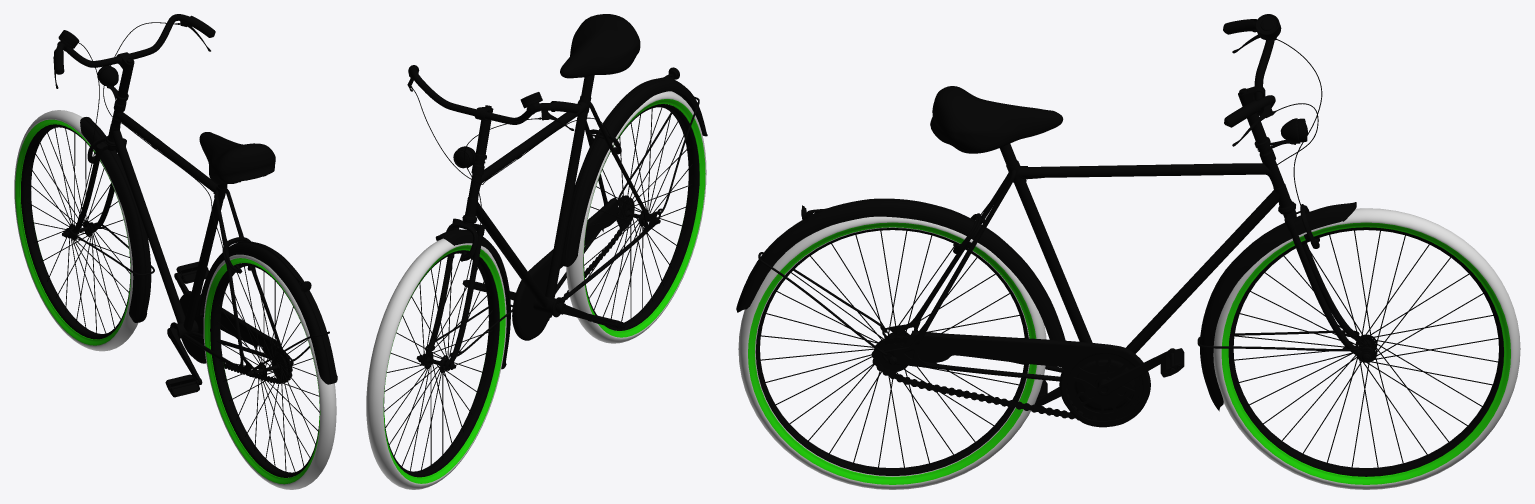
The model's file is bicycle2.fbx.
The picture shows the model from 3 angles, left to right: view 1: azimuth 30°, elevation 25°; view 2: azimuth 150°, elevation 25°; view 3: azimuth 270°, elevation 25°; orthographic projection. The views are drawn at different scales.
Parts seen in each view (by area): view 1: Bicicleta; view 2: Bicicleta; view 3: Bicicleta.
Part boxes in pixels (x1,y1,x2,y2): Bicicleta: [14, 14, 337, 489]; Bicicleta: [366, 14, 707, 489]; Bicicleta: [736, 14, 1520, 489].
Size of the model in its own units: 39.99 by 83.94 by 135.
